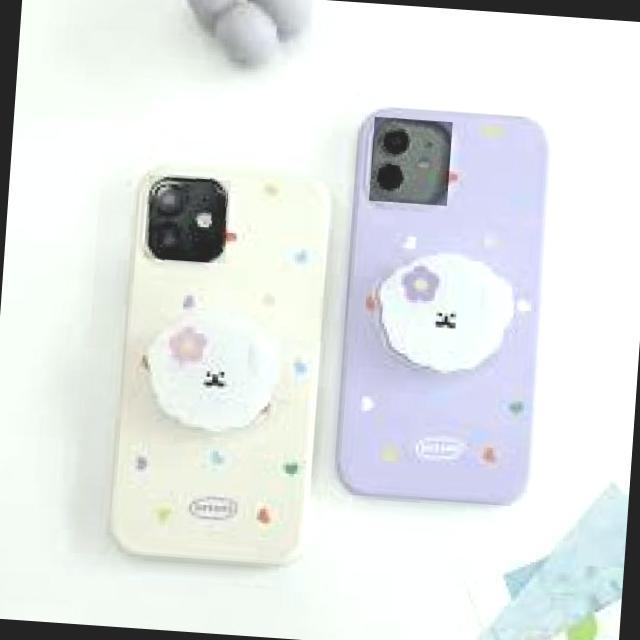phone: (326, 95, 563, 514), (107, 159, 338, 573)
